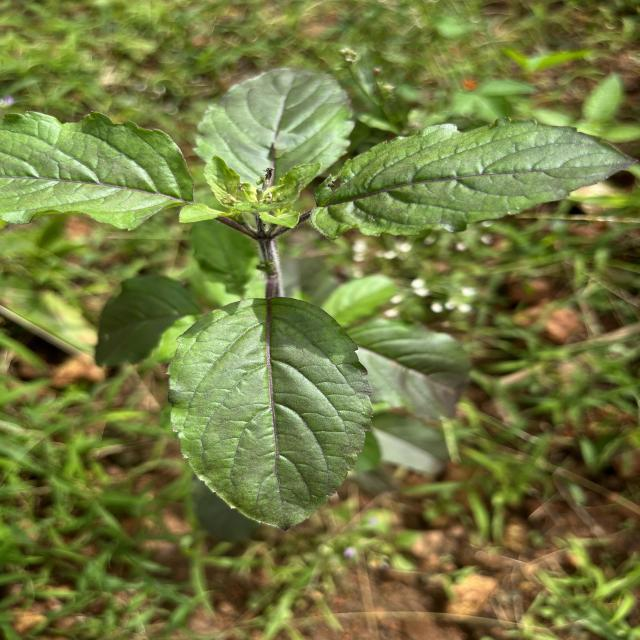Ocimum tenuiflorum: (166, 296, 377, 533), (310, 122, 640, 246)
